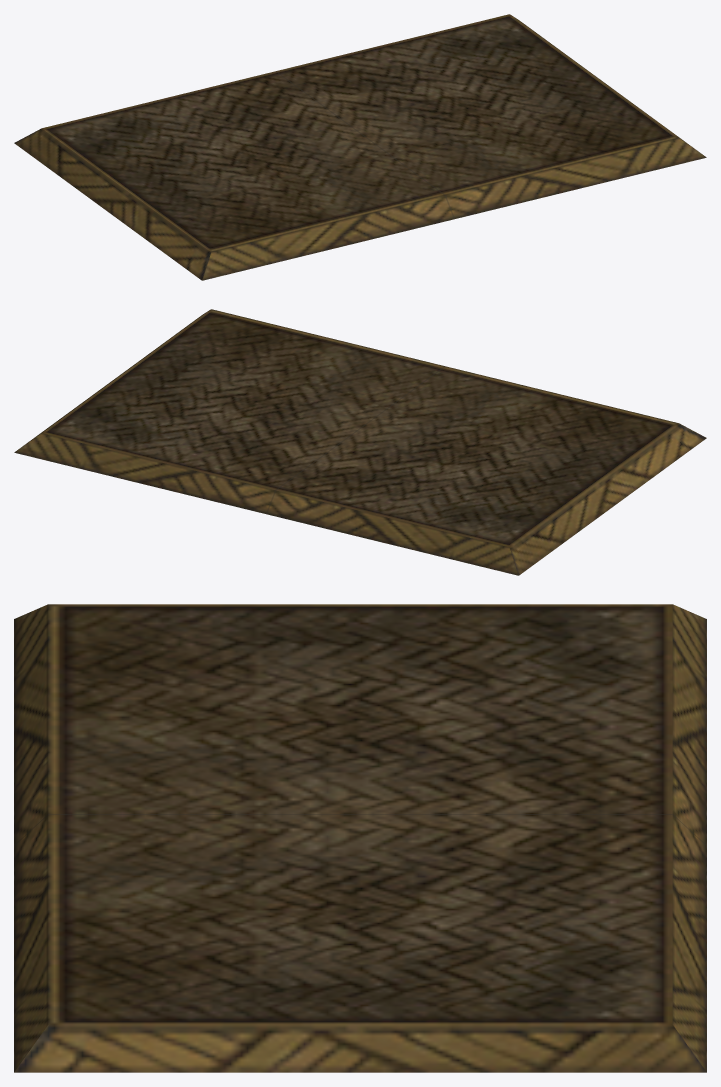
Rendered from nashgar_object_carpet01.FBX.
The picture shows the model from 3 angles, top to bottom: view 1: azimuth 30°, elevation 25°; view 2: azimuth 150°, elevation 25°; view 3: azimuth 270°, elevation 25°; orthographic projection. The views are drawn at different scales.
Visible parts, largest first — view 1: nashgar_object_carpet01; view 2: nashgar_object_carpet01; view 3: nashgar_object_carpet01.
Part boxes in pixels (x1,y1,x2,y2): nashgar_object_carpet01: (14, 14, 706, 280); nashgar_object_carpet01: (14, 309, 706, 575); nashgar_object_carpet01: (14, 604, 706, 1072).
Size of the model in its own units: 6.04 by 0.1952 by 3.9.
